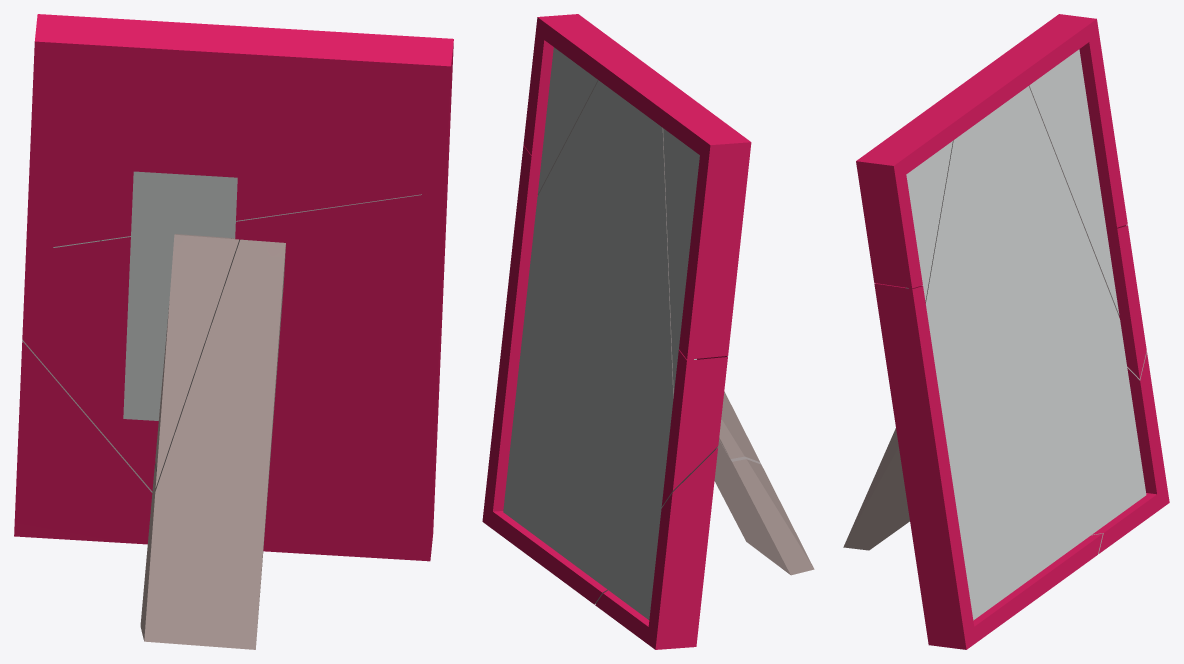
File: Small_Mirror_DEST.fbx
3 views of the same model, side by side, from view 1: azimuth 30°, elevation 25°; view 2: azimuth 150°, elevation 25°; view 3: azimuth 270°, elevation 25° (orthographic). The views are drawn at different scales.
Visible parts, largest first — view 1: model:mesh964999814_cell.002, model:mesh964999814_cell, model:mesh964999814.001_cell.001, model:mesh964999814_cell.001, model:mesh964999814.002_cell, model:mesh964999814.001_cell.002; view 2: model:mesh964999814.002_cell, model:mesh964999814_cell, model:mesh964999814_cell.002, model:mesh964999814_cell.001, model:mesh964999814.001_cell.001, model:mesh964999814.002_cell.002, model:mesh964999814.002_cell.001, model:mesh964999814.001_cell.002; view 3: model:mesh964999814.002_cell, model:mesh964999814_cell.002, model:mesh964999814_cell, model:mesh964999814.002_cell.002, model:mesh964999814_cell.001, model:mesh964999814.001_cell.001, model:mesh964999814.002_cell.001.
Boxes of the visible parts, x1,y1,x2,y2 form: model:mesh964999814_cell.002: [22, 166, 448, 561]; model:mesh964999814_cell: [26, 14, 453, 250]; model:mesh964999814.001_cell.001: [140, 238, 285, 649]; model:mesh964999814_cell.001: [14, 341, 152, 544]; model:mesh964999814.002_cell: [100, 171, 395, 420]; model:mesh964999814.001_cell.002: [155, 234, 238, 487]; model:mesh964999814.002_cell: [503, 80, 673, 619]; model:mesh964999814_cell: [523, 14, 751, 359]; model:mesh964999814_cell.002: [482, 145, 727, 604]; model:mesh964999814_cell.001: [595, 448, 717, 649]; model:mesh964999814.001_cell.001: [714, 440, 814, 575]; model:mesh964999814.002_cell.002: [663, 128, 699, 395]; model:mesh964999814.002_cell.001: [537, 47, 598, 195]; model:mesh964999814.001_cell.002: [719, 391, 759, 461]; model:mesh964999814.002_cell: [925, 86, 1146, 620]; model:mesh964999814_cell.002: [874, 225, 1146, 649]; model:mesh964999814_cell: [856, 14, 1127, 288]; model:mesh964999814.002_cell.002: [1029, 49, 1119, 316]; model:mesh964999814_cell.001: [1092, 351, 1169, 554]; model:mesh964999814.001_cell.001: [843, 428, 909, 550]; model:mesh964999814.002_cell.001: [906, 141, 952, 301].
Size of the model in its own units: 0.7876 by 1.2 by 0.7149.
